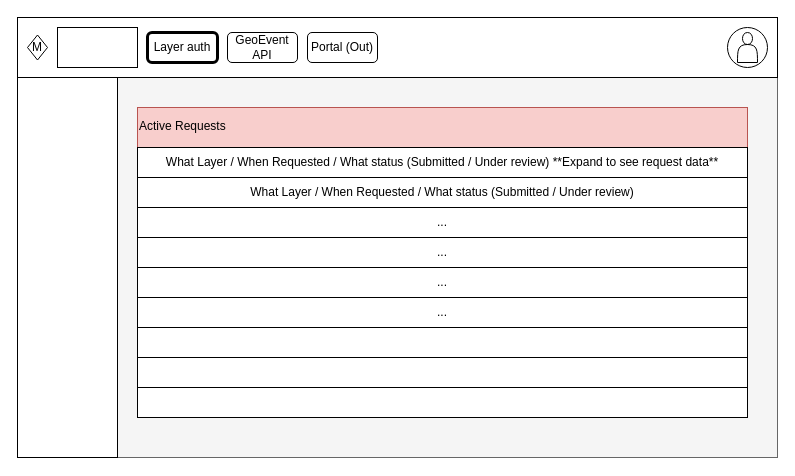
Image size: 795x476. Some labels were removed from this diagram. The centre of each missing label's shape, as x and y in pixels:
Active Requests Submit Request Historic Request Review Requests: the point at 67,267
Title: the point at 97,47
